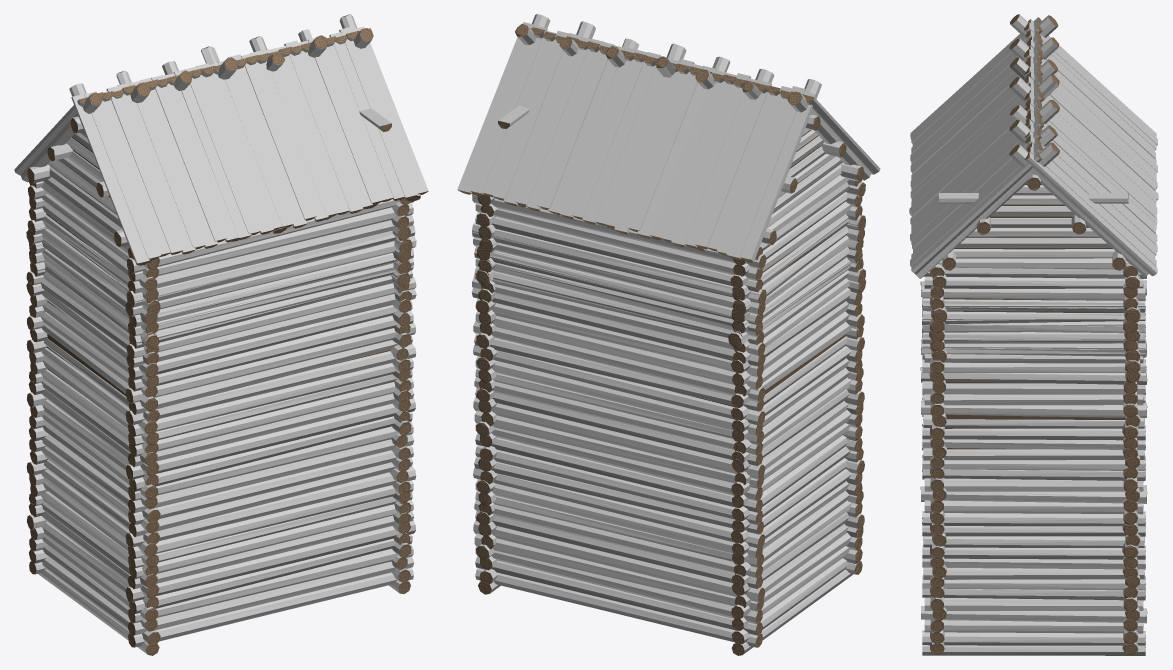
File: FrontierChurch1.fbx
3 renders of one model, left to right at view 1: azimuth 30°, elevation 25°; view 2: azimuth 150°, elevation 25°; view 3: azimuth 270°, elevation 25°, orthographic. The views are drawn at different scales.
Visible parts, largest first — view 1: Base.057, Roof.007, Base.001, Roof.005, Gable.002, Roof.006, Base.022, Base.025, Step_2.004, Base.024, Base.017, Base.020 (+7 smaller); view 2: Base.057, Roof.006, Base.001, Step_1.005, Roof.005, Step_2.004, Step_1.004, Gable.002, Roof.007, Base.007, Base.015, Base.013 (+6 smaller); view 3: Base.057, Roof.007, Roof.006, Roof.005, Gable.001, Base.001, Step_2.004, Plaster.005, Base.042, Base.040, Base.037, Roof.Plank (+7 smaller).
Boxes of the visible parts, x1,y1,x2,y2 form: Base.057: [26, 177, 416, 655]; Roof.007: [71, 26, 428, 265]; Base.001: [26, 271, 416, 456]; Roof.005: [20, 14, 420, 265]; Gable.002: [48, 131, 122, 228]; Roof.006: [14, 28, 371, 175]; Base.022: [135, 248, 413, 320]; Base.025: [134, 271, 412, 343]; Step_2.004: [26, 221, 416, 315]; Base.024: [126, 225, 414, 304]; Base.017: [130, 236, 415, 316]; Base.020: [128, 265, 413, 336]; Base.057: [471, 175, 865, 655]; Roof.006: [457, 22, 816, 261]; Base.001: [472, 269, 866, 456]; Step_1.005: [474, 248, 862, 346]; Roof.005: [471, 14, 871, 262]; Step_2.004: [477, 214, 864, 321]; Step_1.004: [474, 242, 863, 346]; Gable.002: [767, 128, 842, 227]; Roof.007: [530, 27, 880, 174]; Base.007: [550, 258, 765, 315]; Base.015: [472, 221, 765, 295]; Base.013: [478, 262, 762, 334]; Base.057: [920, 258, 1147, 655]; Roof.007: [909, 17, 1044, 273]; Roof.006: [1024, 19, 1158, 276]; Roof.005: [915, 14, 1148, 278]; Gable.001: [953, 183, 1114, 258]; Base.001: [920, 282, 1146, 469]; Step_2.004: [922, 300, 1145, 332]; Plaster.005: [945, 381, 1125, 449]; Base.042: [921, 340, 1146, 356]; Base.040: [922, 320, 1145, 332]; Base.037: [922, 303, 1145, 312]; Roof.Plank: [938, 193, 1128, 203].
Size of the model in its own units: 906 by 2084 by 1210.
